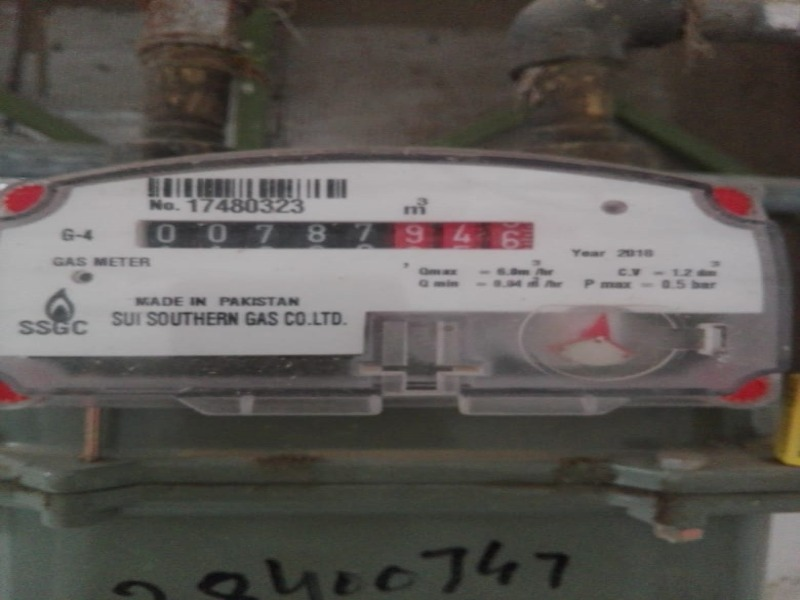ssgc: (130, 216, 538, 255)
